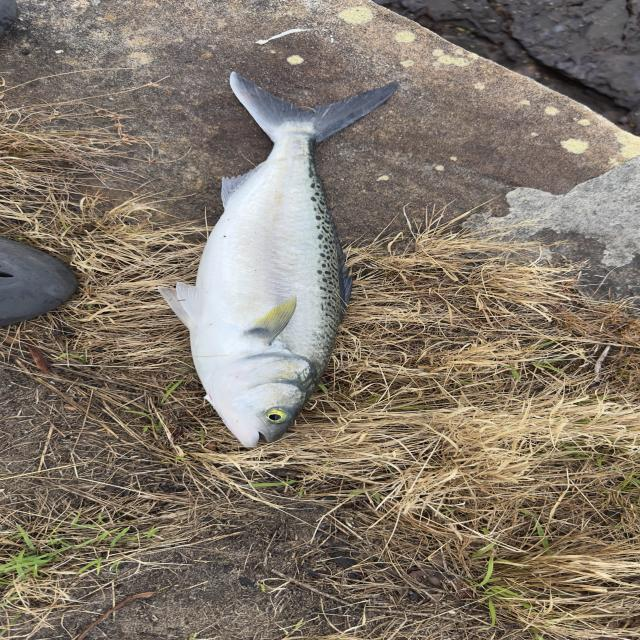Australian Salmon: (151, 72, 413, 455)
